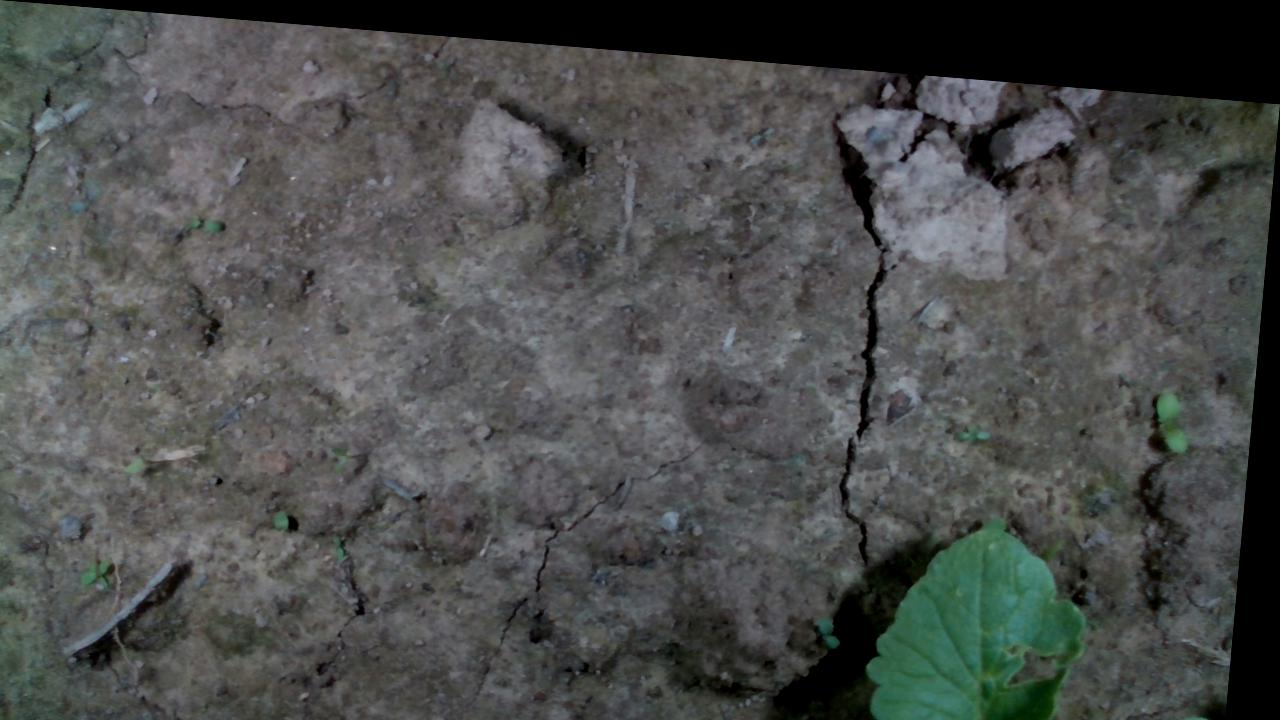weed: (1155, 367, 1198, 434), (957, 403, 997, 429), (184, 211, 231, 231)
